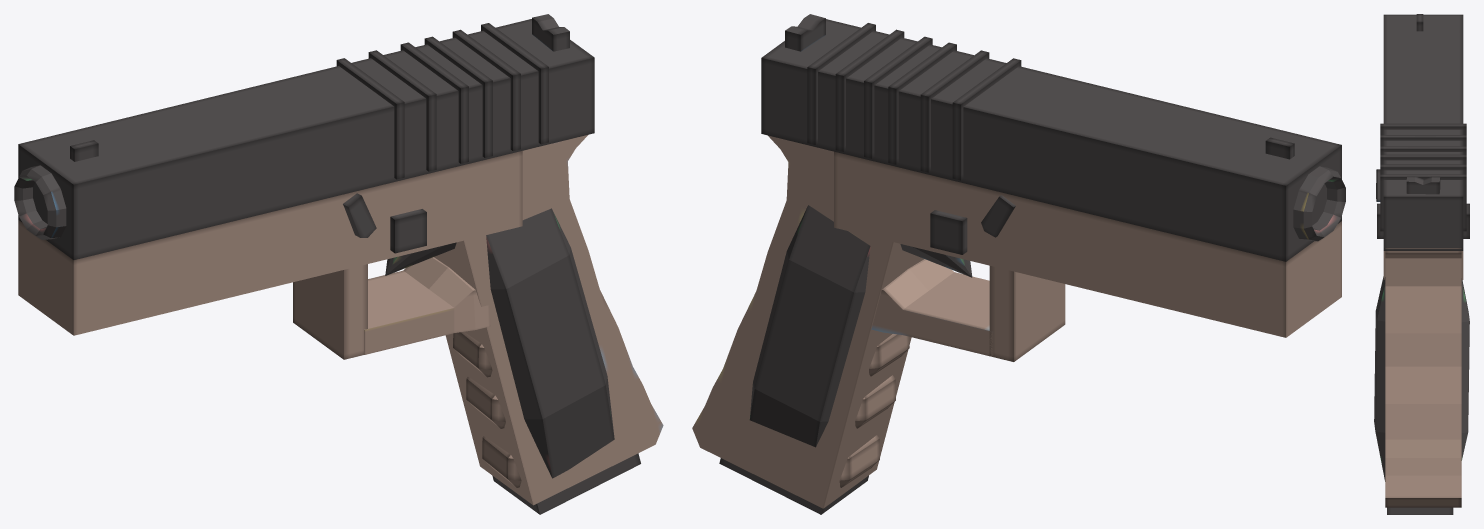
The model's file is glock-18.glb.
The picture shows the model from 3 angles, left to right: view 1: azimuth 30°, elevation 25°; view 2: azimuth 150°, elevation 25°; view 3: azimuth 270°, elevation 25°; orthographic projection. The views are drawn at different scales.
Visible parts, largest first — view 1: mesh_4_glock-18 texture.png_0, mesh_1_glock-18 texture.png_0, beveled_cuboid_3, mesh_glock-18 texture.png_0, mesh_2_glock-18 texture.png_0, mesh_3_glock-18 texture.png_0, torus, mesh_9_glock-18 texture.png_0, mesh_12_glock-18 texture.png_0, mesh_13_glock-18 texture.png_0, mesh_6_glock-18 texture.png_0, mesh_8_glock-18 texture.png_0 (+9 smaller); view 2: mesh_4_glock-18 texture.png_0, mesh_1_glock-18 texture.png_0, mesh_glock-18 texture.png_0, beveled_cuboid_3, mesh_2_glock-18 texture.png_0, mesh_3_glock-18 texture.png_0, torus, mesh_13_glock-18 texture.png_0, mesh_12_glock-18 texture.png_0, mesh_6_glock-18 texture.png_0, mesh_9_glock-18 texture.png_0, mesh_8_glock-18 texture.png_0 (+9 smaller); view 3: mesh_glock-18 texture.png_0, mesh_4_glock-18 texture.png_0, beveled_cuboid_3, mesh_5_glock-18 texture.png_0, mesh_13_glock-18 texture.png_0, mesh_6_glock-18 texture.png_0, mesh_8_glock-18 texture.png_0, mesh_10_glock-18 texture.png_0, mesh_12_glock-18 texture.png_0, mesh_9_glock-18 texture.png_0, mesh_11_glock-18 texture.png_0, mesh_16_glock-18 texture.png_0 (+3 smaller).
Part boxes in pixels (x1=…): mesh_4_glock-18 texture.png_0: x1=18, y1=19, x2=594, y2=259; mesh_1_glock-18 texture.png_0: x1=18, y1=151, x2=522, y2=335; beveled_cuboid_3: x1=486, y1=208, x2=614, y2=478; mesh_glock-18 texture.png_0: x1=434, y1=134, x2=663, y2=505; mesh_2_glock-18 texture.png_0: x1=364, y1=257, x2=490, y2=354; mesh_3_glock-18 texture.png_0: x1=293, y1=264, x2=367, y2=359; torus: x1=14, y1=165, x2=66, y2=239; mesh_9_glock-18 texture.png_0: x1=400, y1=42, x2=468, y2=163; mesh_12_glock-18 texture.png_0: x1=368, y1=50, x2=436, y2=171; mesh_13_glock-18 texture.png_0: x1=336, y1=58, x2=404, y2=179; mesh_6_glock-18 texture.png_0: x1=452, y1=29, x2=520, y2=150; mesh_8_glock-18 texture.png_0: x1=424, y1=36, x2=492, y2=157; mesh_4_glock-18 texture.png_0: x1=761, y1=19, x2=1341, y2=261; mesh_1_glock-18 texture.png_0: x1=834, y1=151, x2=1341, y2=337; mesh_glock-18 texture.png_0: x1=692, y1=135, x2=923, y2=508; beveled_cuboid_3: x1=749, y1=205, x2=870, y2=447; mesh_2_glock-18 texture.png_0: x1=871, y1=259, x2=993, y2=356; mesh_3_glock-18 texture.png_0: x1=989, y1=266, x2=1065, y2=361; torus: x1=1293, y1=166, x2=1345, y2=241; mesh_13_glock-18 texture.png_0: x1=952, y1=58, x2=1021, y2=180; mesh_12_glock-18 texture.png_0: x1=920, y1=50, x2=989, y2=172; mesh_6_glock-18 texture.png_0: x1=835, y1=29, x2=904, y2=151; mesh_9_glock-18 texture.png_0: x1=888, y1=42, x2=956, y2=164; mesh_8_glock-18 texture.png_0: x1=864, y1=36, x2=932, y2=158; mesh_glock-18 texture.png_0: x1=1385, y1=248, x2=1461, y2=507; mesh_4_glock-18 texture.png_0: x1=1383, y1=14, x2=1463, y2=250; beveled_cuboid_3: x1=1374, y1=276, x2=1469, y2=481; mesh_5_glock-18 texture.png_0: x1=1380, y1=174, x2=1466, y2=231; mesh_13_glock-18 texture.png_0: x1=1380, y1=123, x2=1466, y2=134; mesh_6_glock-18 texture.png_0: x1=1380, y1=164, x2=1466, y2=174; mesh_8_glock-18 texture.png_0: x1=1380, y1=154, x2=1466, y2=164; mesh_10_glock-18 texture.png_0: x1=1406, y1=176, x2=1440, y2=194; mesh_12_glock-18 texture.png_0: x1=1380, y1=135, x2=1466, y2=146; mesh_9_glock-18 texture.png_0: x1=1380, y1=146, x2=1466, y2=154; mesh_11_glock-18 texture.png_0: x1=1387, y1=507, x2=1453, y2=514; mesh_16_glock-18 texture.png_0: x1=1377, y1=203, x2=1469, y2=238.
Size of the model in its own units: 0.9446 by 0.6899 by 0.1803.
Materials: 1 (1 with a texture image).
